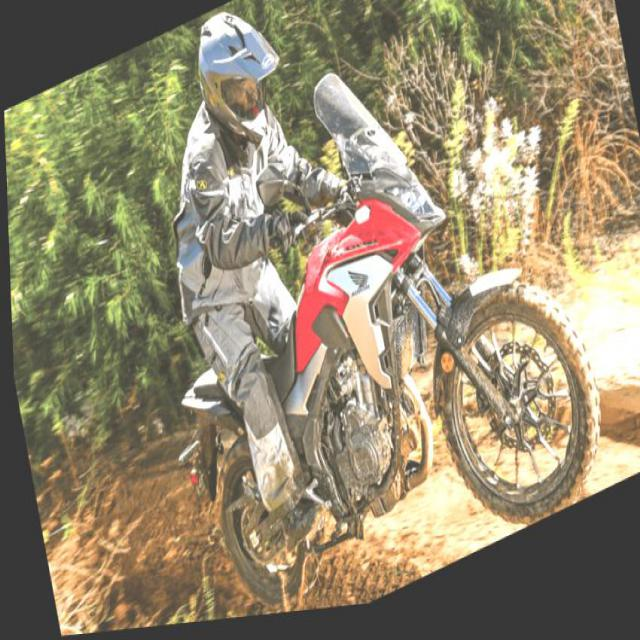CB500X: (130, 0, 617, 628)
